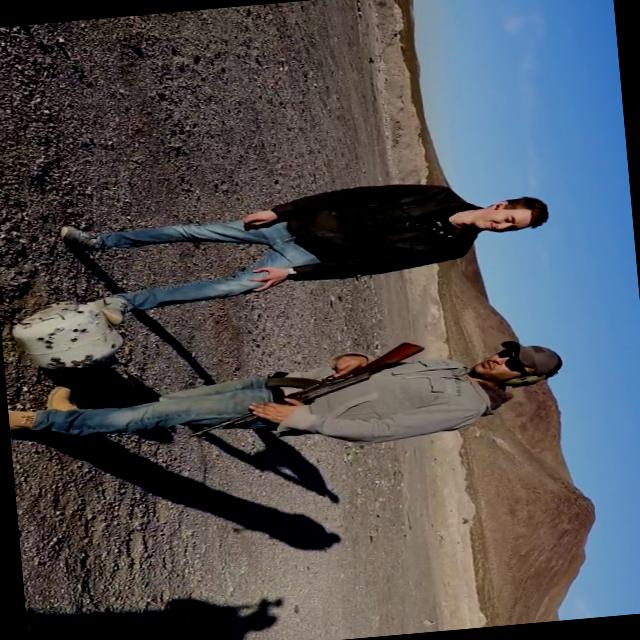long weapon: (190, 337, 434, 441)
